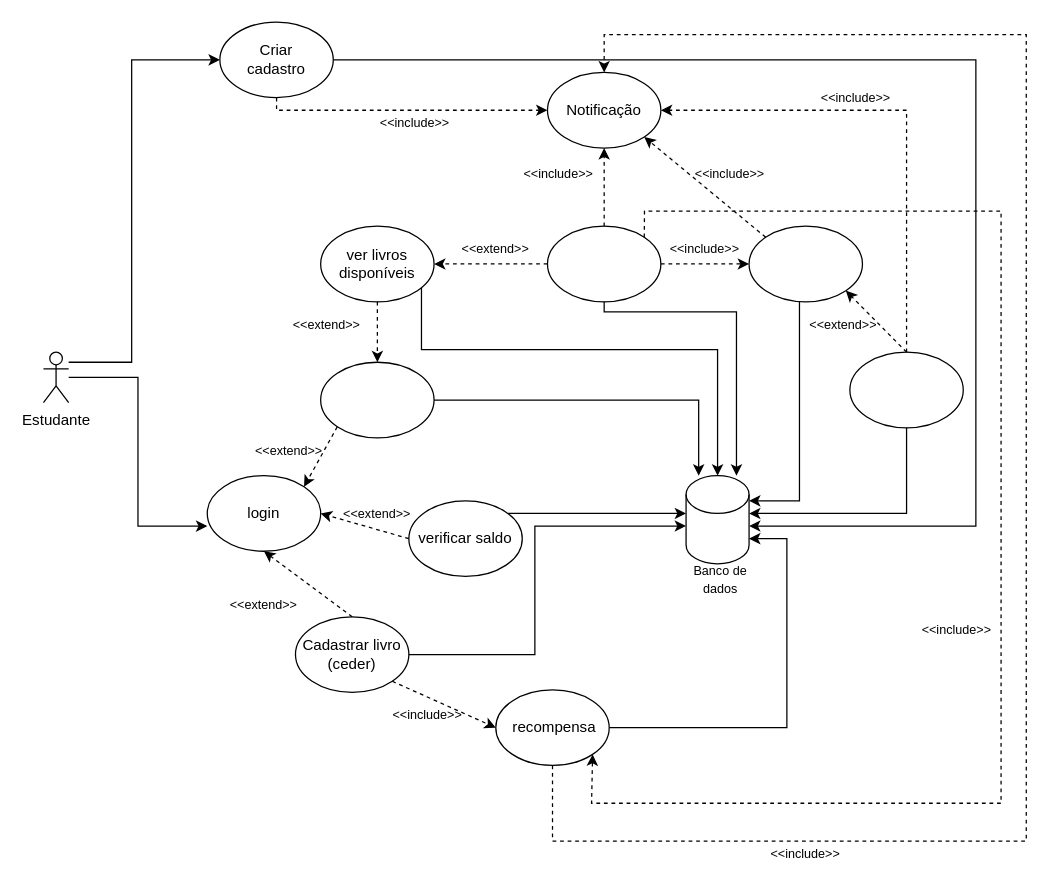
Some shapes in this 1058 by 888 pixel diagram are drawn without their labels. The shapes that lost their labels are listed below. From the top down, each one's centre as x and y in pixels, then its label:
At [603,263]: "empréstimo".
At [805,263]: "devolução".
At [376,399]: "acessar armário".
At [906,389]: "penalidade".
